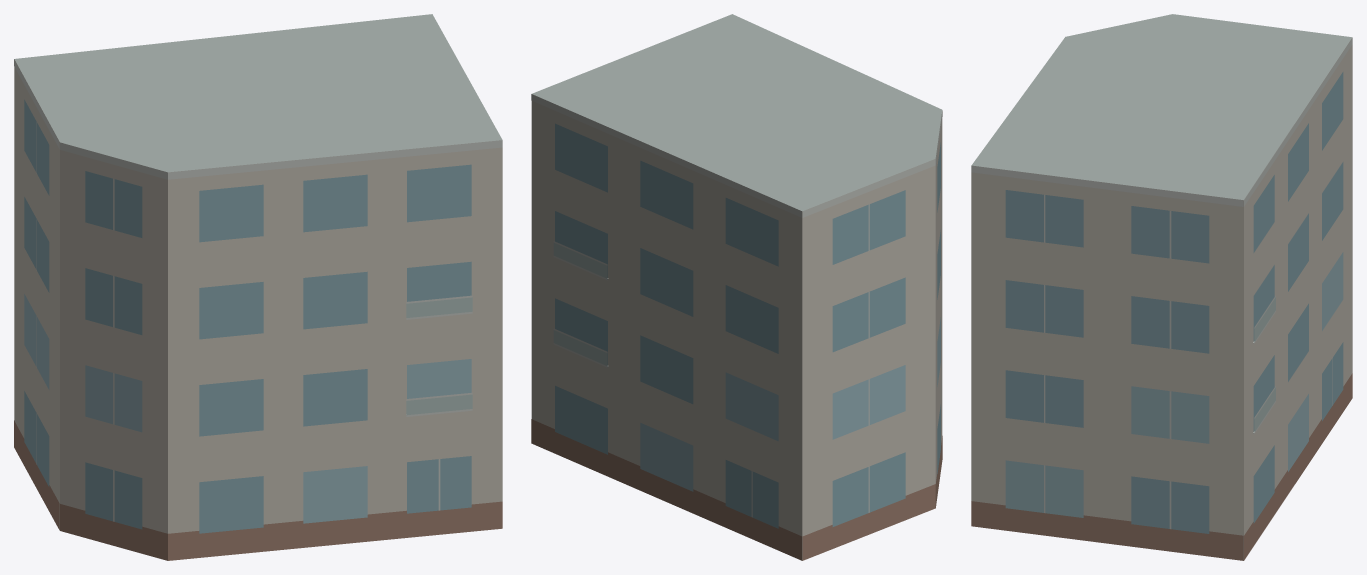
Rendered from survey-upis-32871988.glb.
The picture shows the model from 3 angles, left to right: view 1: azimuth 30°, elevation 25°; view 2: azimuth 150°, elevation 25°; view 3: azimuth 270°, elevation 25°; orthographic projection. The views are drawn at different scales.
Visible parts, largest first — view 1: survey-upis-32871988.tmp; view 2: survey-upis-32871988.tmp; view 3: survey-upis-32871988.tmp.
Part boxes in pixels (bbox=[...]): survey-upis-32871988.tmp: bbox=[14, 14, 502, 560]; survey-upis-32871988.tmp: bbox=[531, 14, 942, 560]; survey-upis-32871988.tmp: bbox=[971, 14, 1352, 560].
Size of the model in its own units: 14.18 by 12.8 by 12.27.
